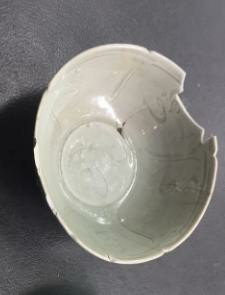ceramics: (31, 41, 221, 269)
